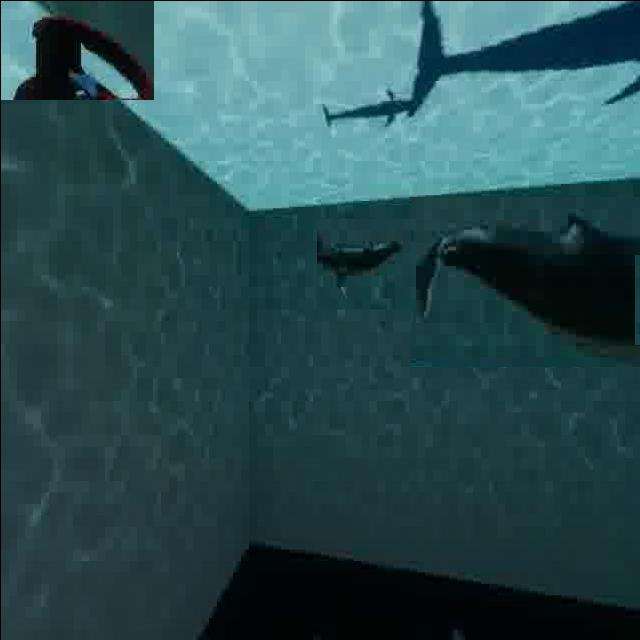Cylinder: (0, 0, 153, 99)
Whale: (410, 196, 640, 367), (314, 218, 414, 308)
